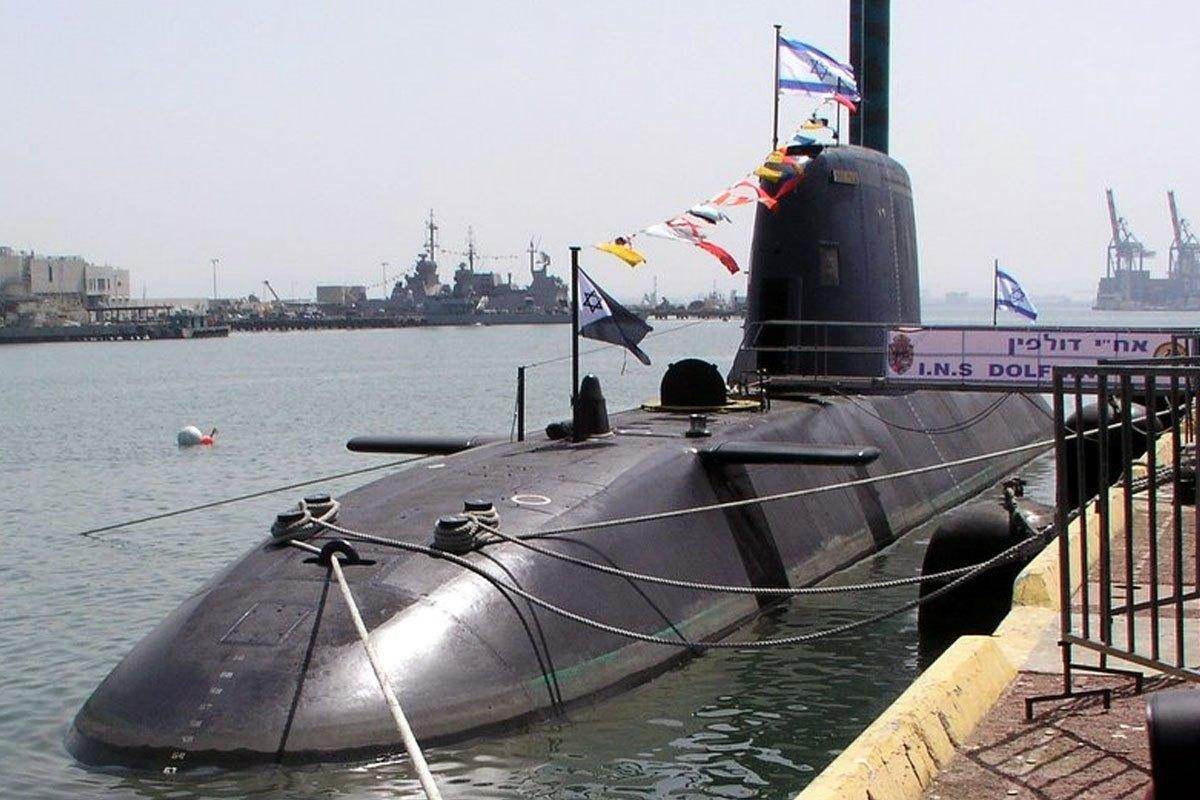Submarine: (50, 90, 1100, 800)
